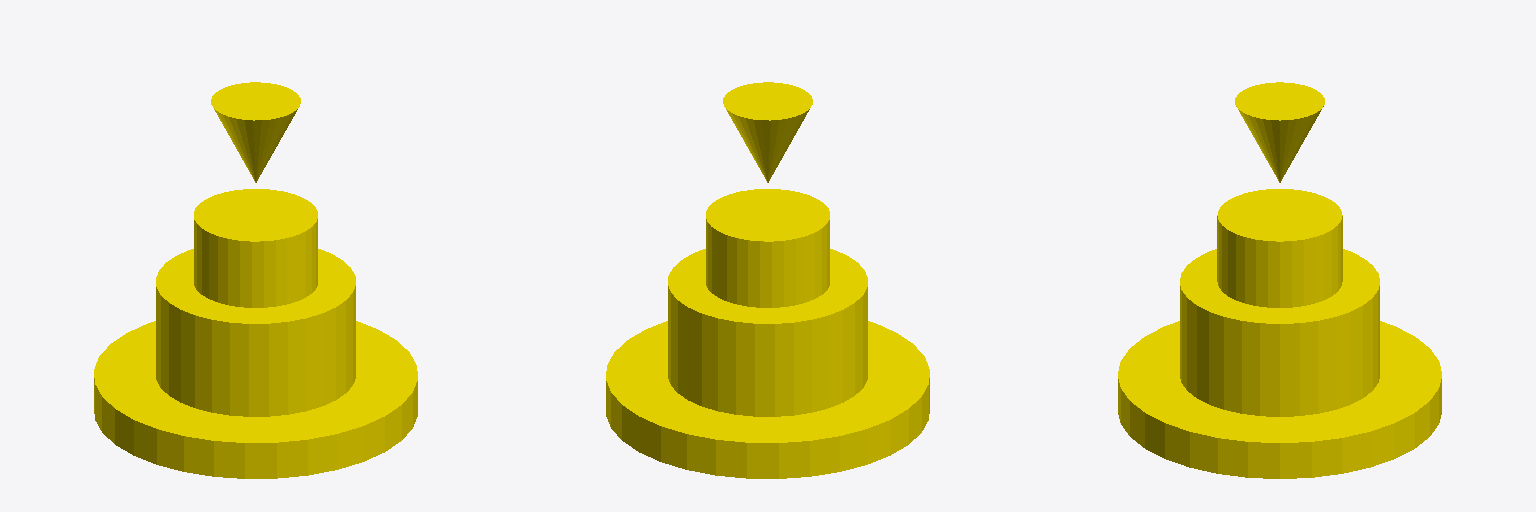
3 renders of one model, left to right at view 1: azimuth 30°, elevation 25°; view 2: azimuth 150°, elevation 25°; view 3: azimuth 270°, elevation 25°, orthographic.
Parts seen in each view (by area): view 1: 円錐; view 2: 円錐; view 3: 円錐.
Part boxes in pixels (bbox=[...]): 円錐: bbox=[94, 82, 417, 478]; 円錐: bbox=[606, 82, 929, 478]; 円錐: bbox=[1118, 82, 1441, 478].
Bounding box in the file's own units: 3.24 × 3.4 × 3.24.
1 materials, 1 textured.